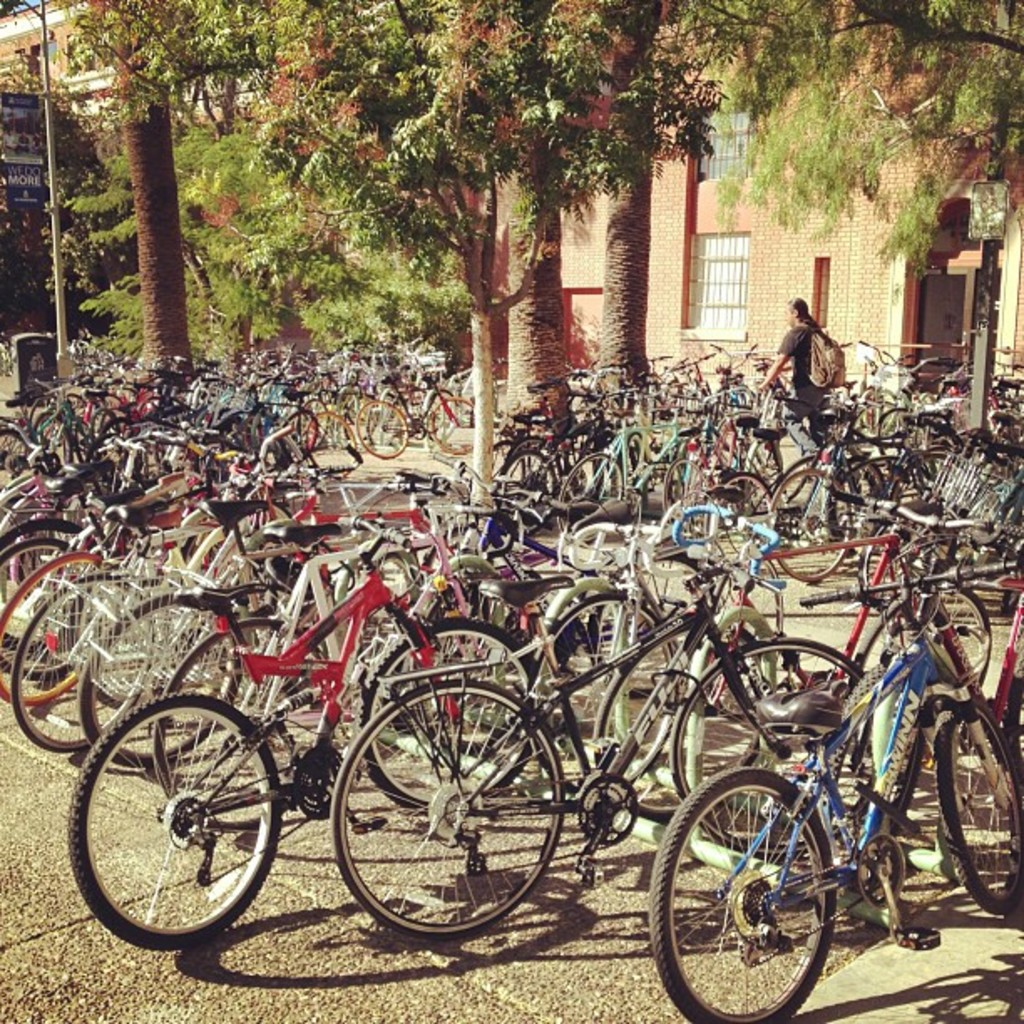Tree: (252, 0, 642, 503), (627, 0, 1022, 292), (110, 0, 194, 366), (604, 0, 659, 391)
